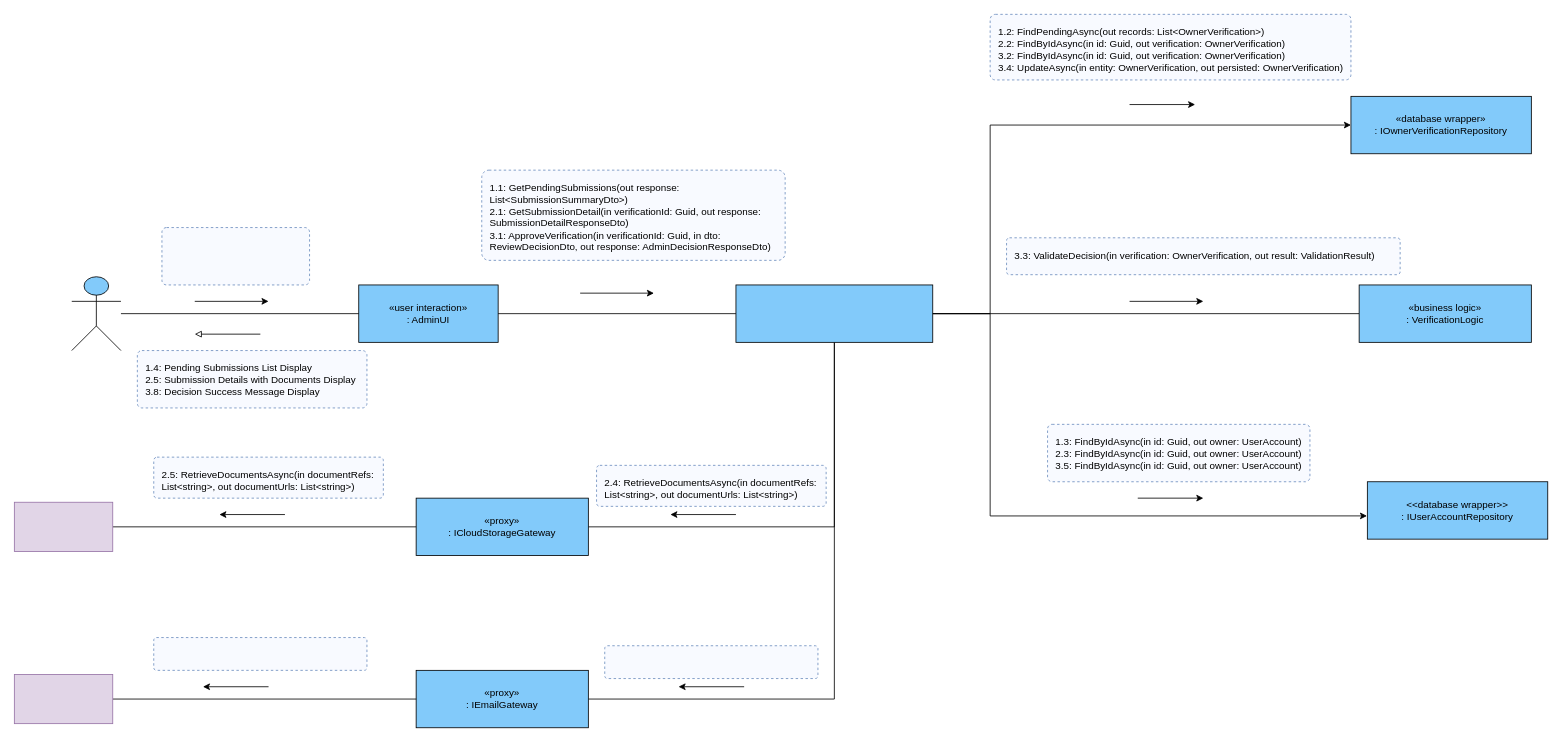
Some shapes in this 1562 by 742 pixel diagram are drawn without their labels. Here are the shapes that lost their labels. From the top down, the box of each, then its label:
(161, 227, 310, 285): 1: Verification Review Access 2: Submission Selection 3: Approval Decision
(71, 276, 121, 351): System Admin
(735, 284, 933, 342): «coordinator» : ReviewVerificationController
(14, 501, 113, 551): «external system» Cloud Storage
(153, 637, 367, 670): 3.7: SendAsync(in message: EmailMessage)
(604, 645, 818, 679): 3.6: SendAsync(in message: EmailMessage)
(14, 674, 113, 724): «external system» Email Provider
